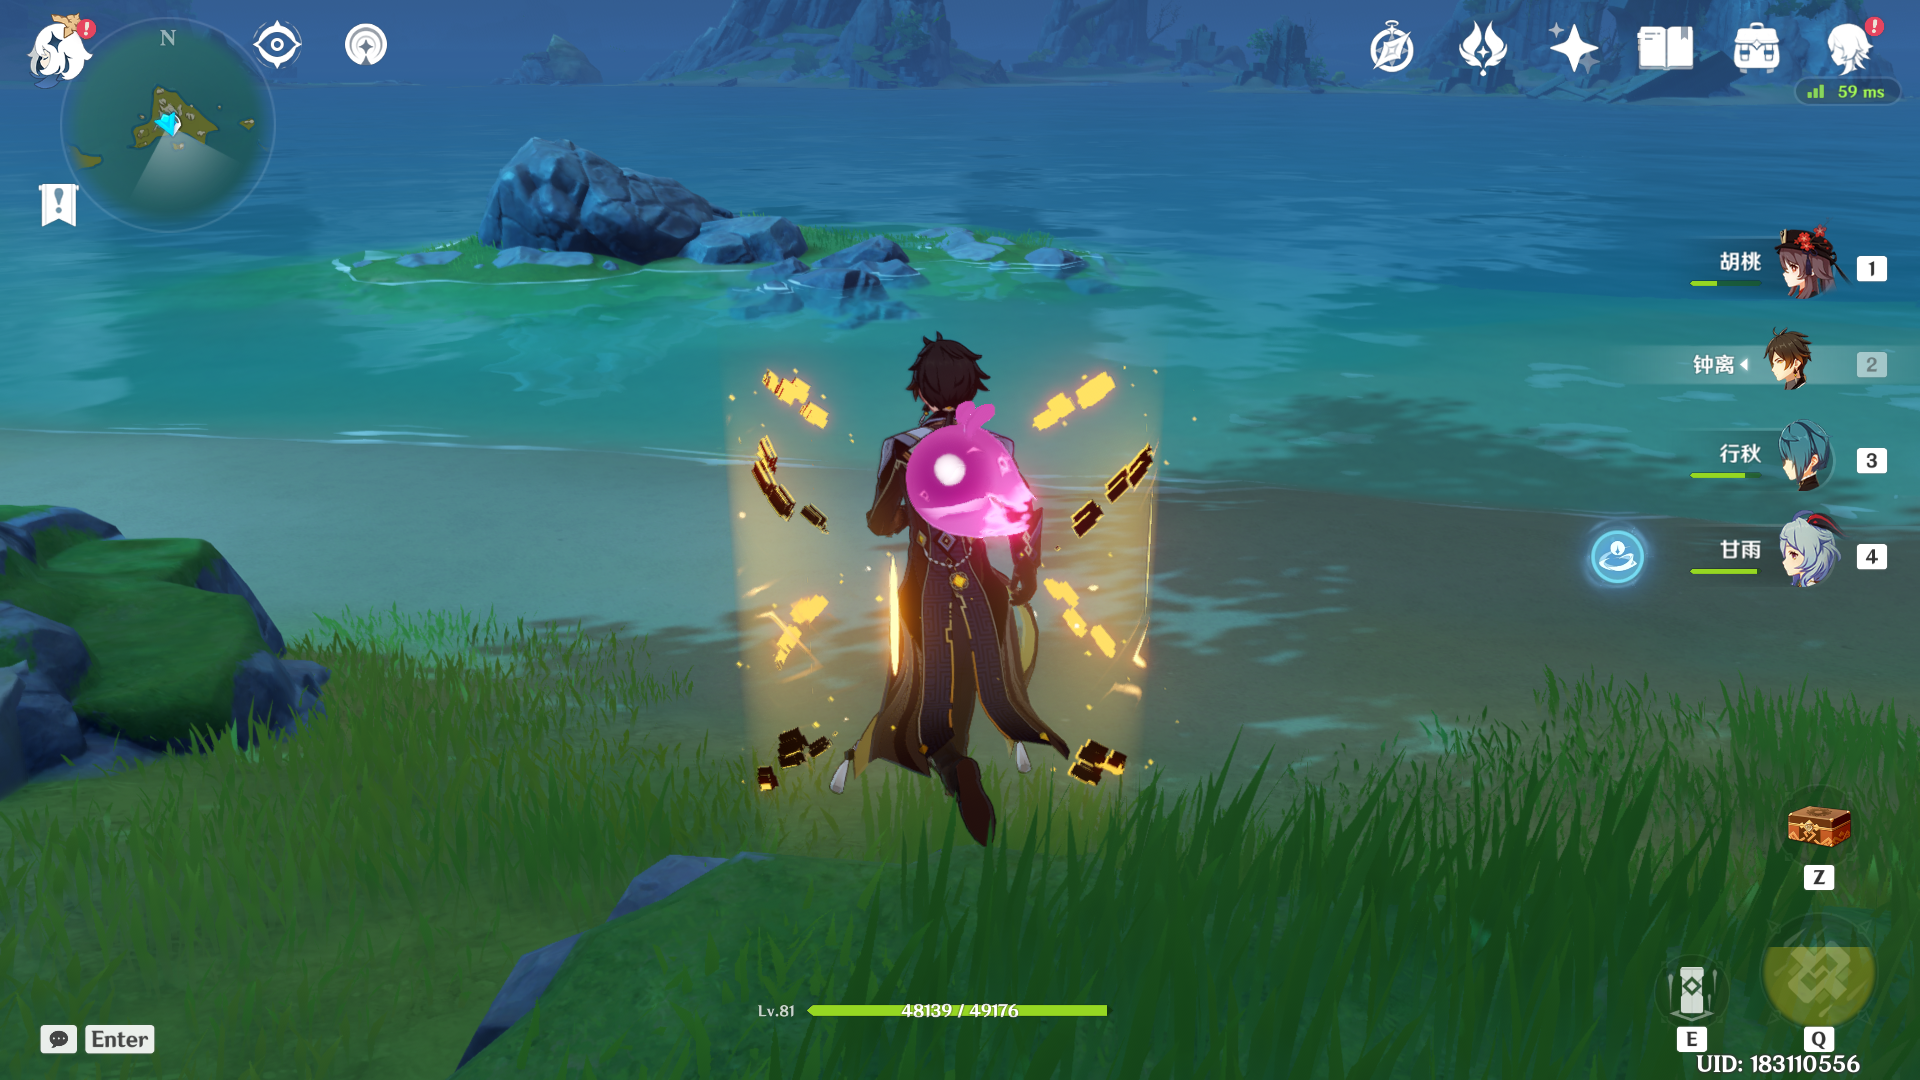character: (754, 295, 1084, 837)
